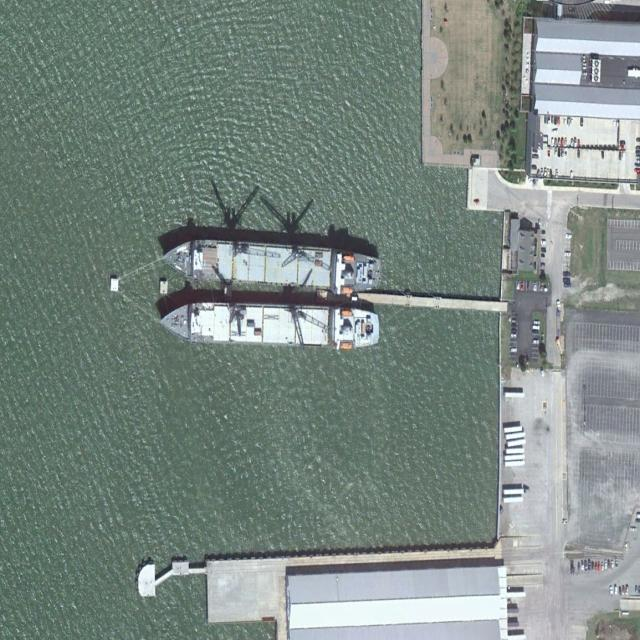Cargo: (161, 233, 382, 294), (158, 297, 379, 352)
